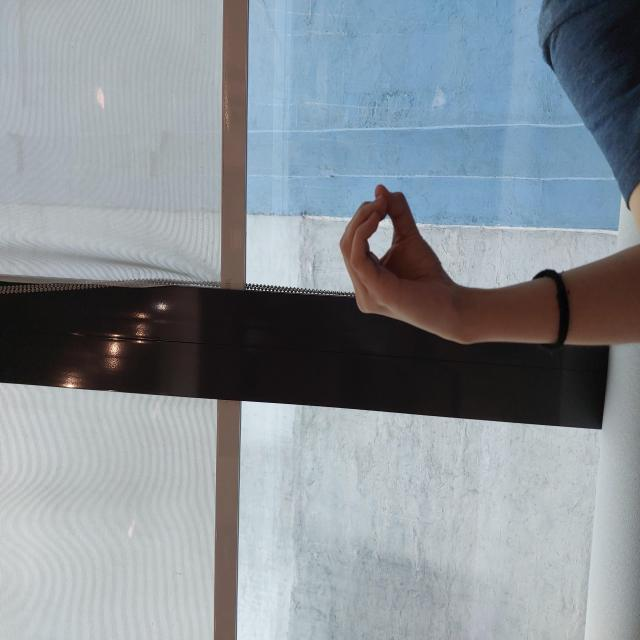O: (317, 339, 456, 448)
